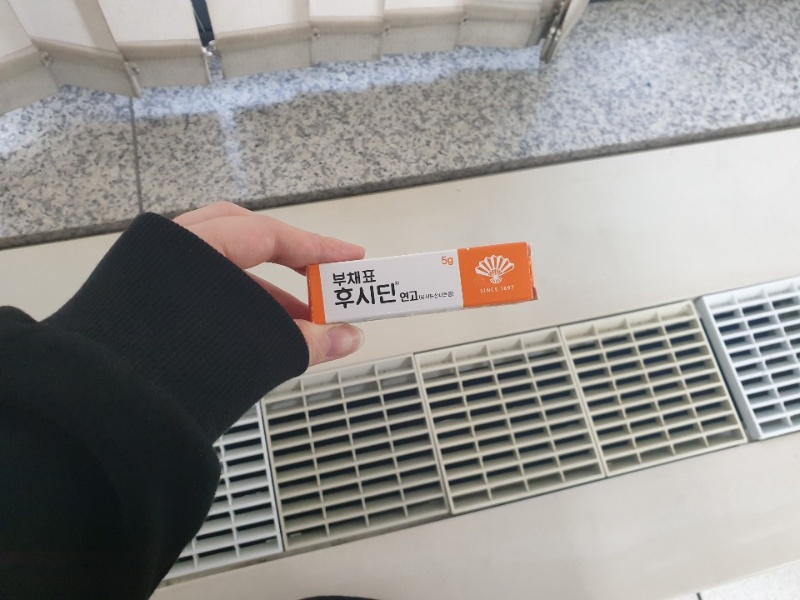fucidin: (305, 242, 535, 322)
